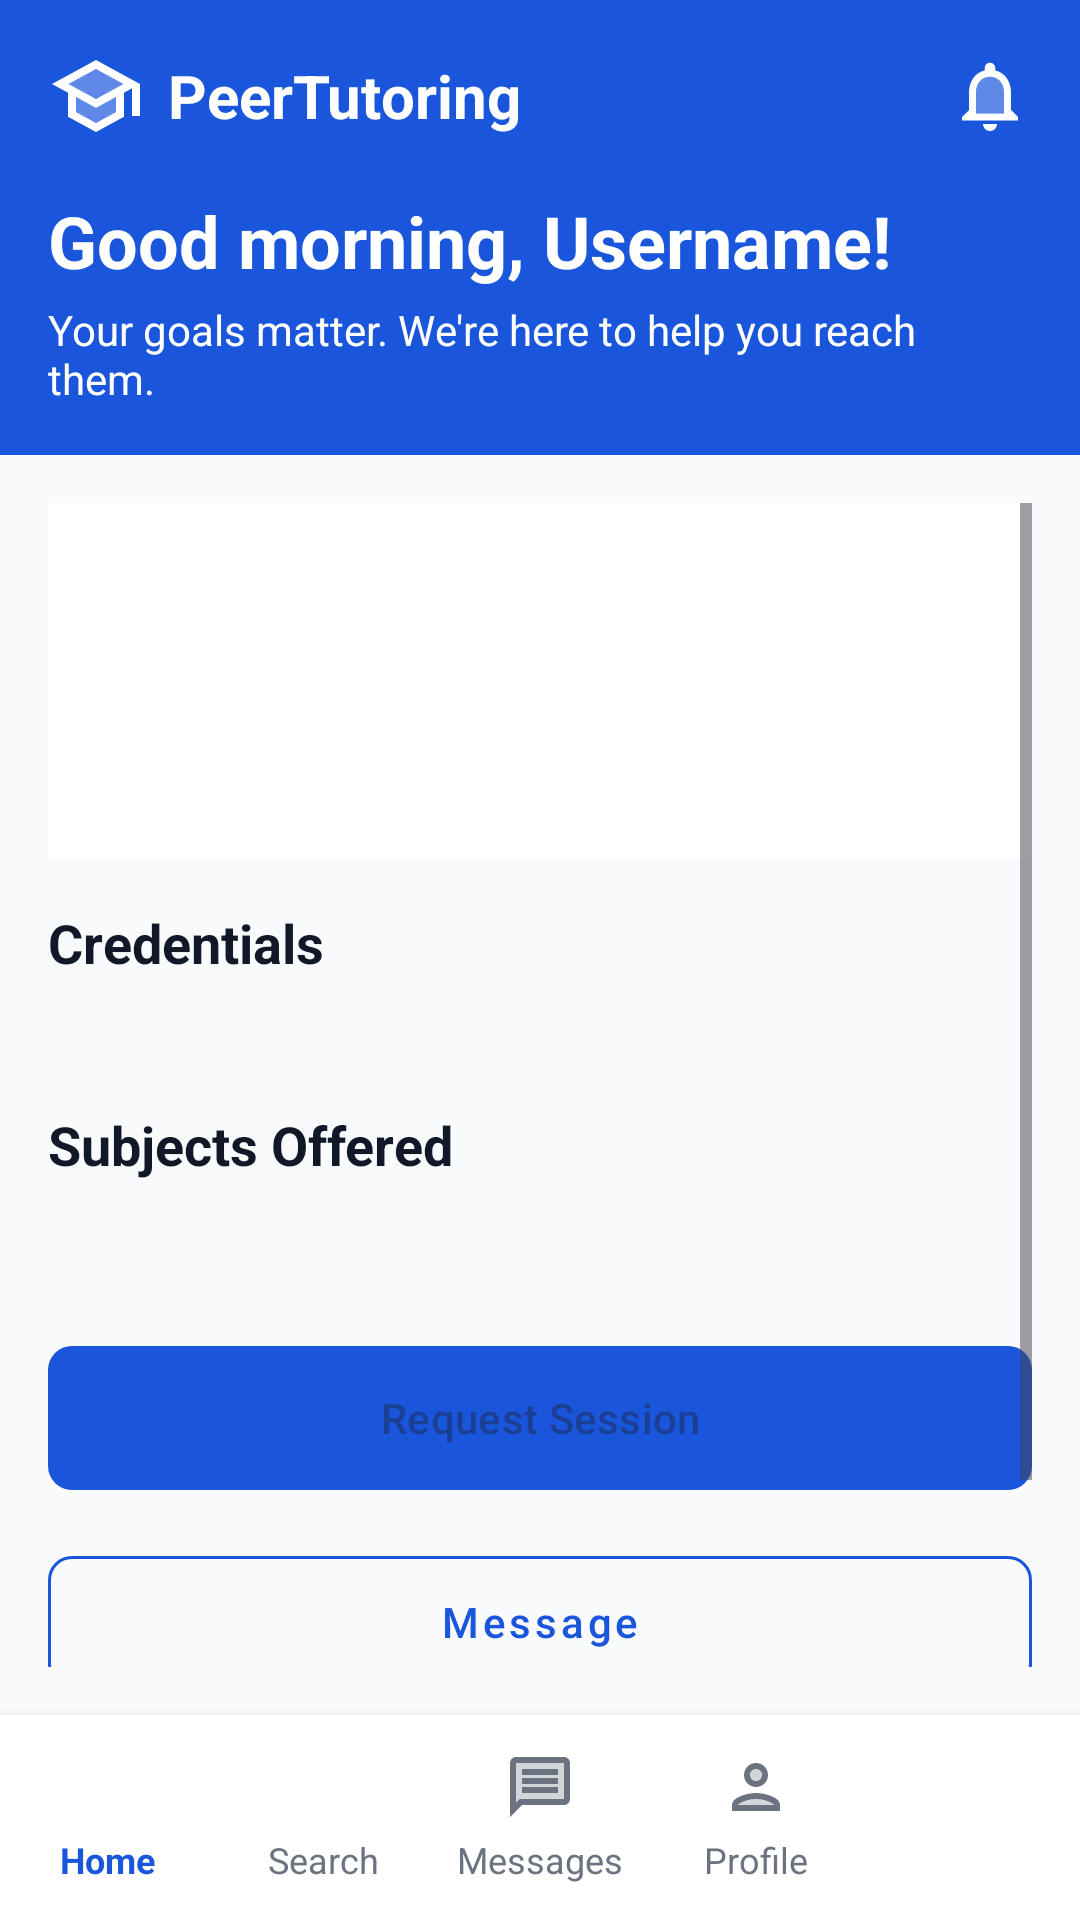

Locate icon controls on the screen. Image size 1080*1920, boxes as (x1, y1, x2, y2).
notifications: (962, 62, 1018, 131)
person: (732, 1763, 780, 1811)
school hat: (52, 60, 140, 132)
